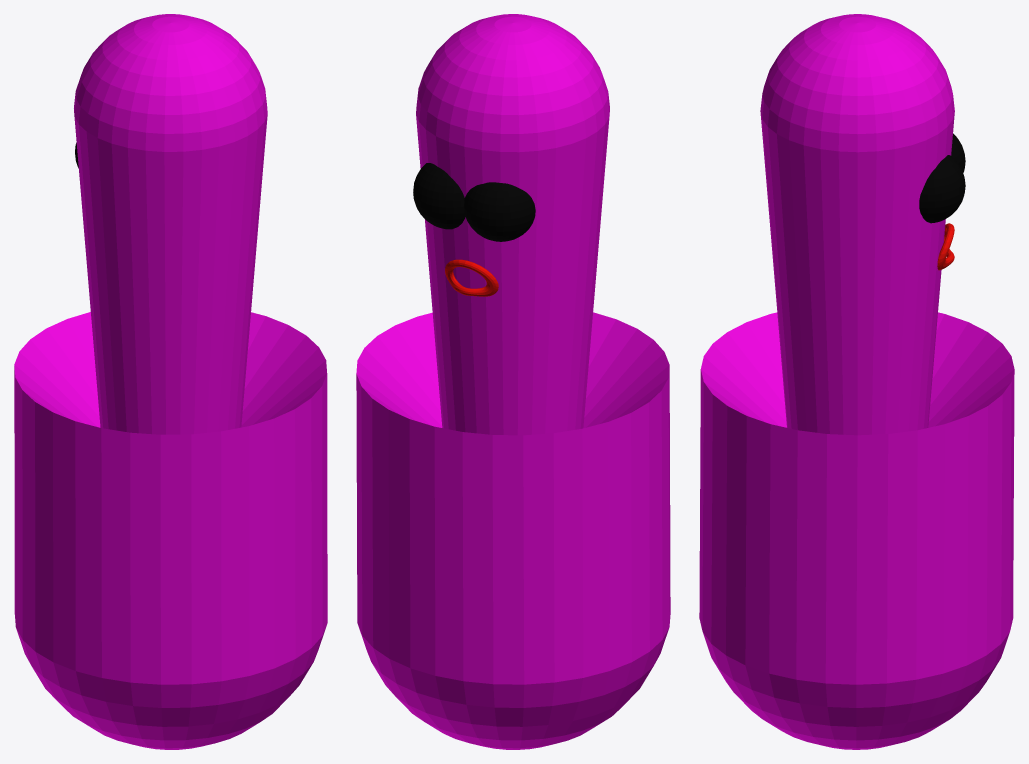
Rendered from enemy7.fbx.
3 views of the same model, side by side, from view 1: azimuth 30°, elevation 25°; view 2: azimuth 150°, elevation 25°; view 3: azimuth 270°, elevation 25° (orthographic).
Parts seen in each view (by area): view 1: Sphere; view 2: Sphere; view 3: Sphere.
Boxes of the visible parts, x1,y1,x2,y2 form: Sphere: (14,14,327,749); Sphere: (356,14,670,749); Sphere: (699,14,1014,749).
Size of the model in its own units: 196 by 491 by 197.
